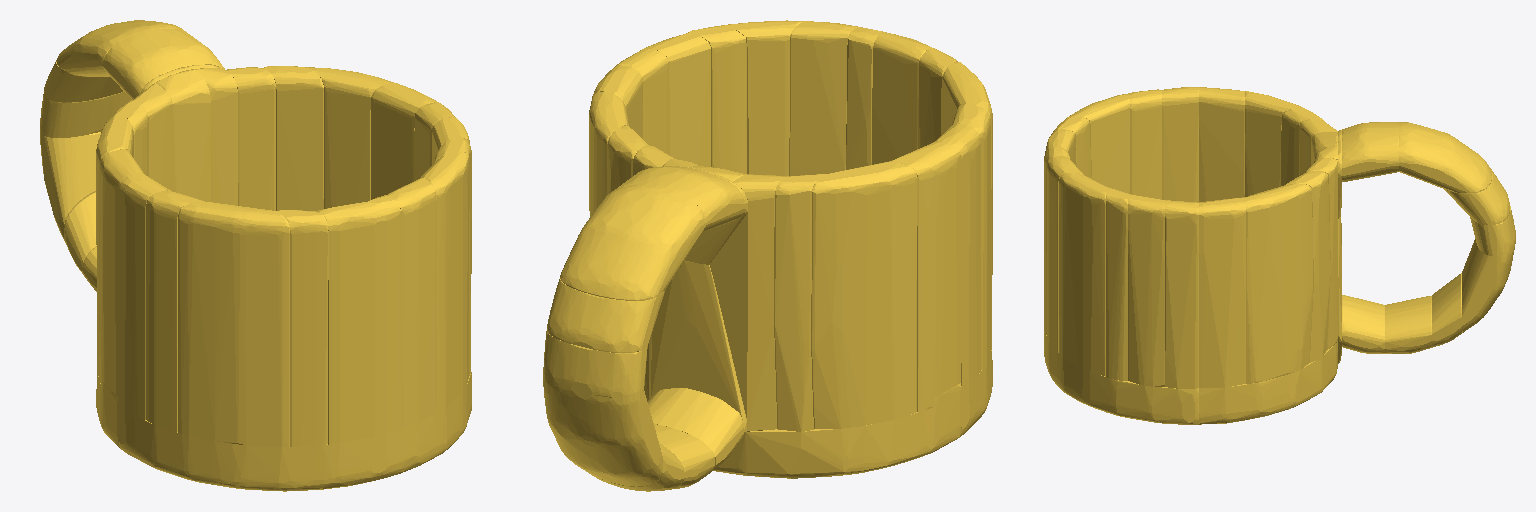
robot.urdf — 547.urdf:
<?xml version="1.0" ?>
<robot name="547.urdf">
	<link name="baseLink">
		<inertial>
			<origin rpy="0 0 0" xyz="0 0 0"/>
				<mass value="0.1"/>
				<inertia ixx="6e-5" ixy="0" ixz="0" iyy="6e-5" iyz="0" izz="6e-5"/>
		</inertial>
		<visual>
			<origin rpy="0 0 0" xyz="0 0 0"/>
			<geometry>
				<mesh filename="32_decom_wt.obj" scale="0.86 0.86 0.81"/>
			</geometry>
			<material name="yellow">
				<color rgba="0.98 0.84 0.35 1"/>
			</material>
		</visual>
		<collision>
			<origin rpy="0 0 0" xyz="0 0 0"/>
			<geometry>
				<mesh filename="32_decom_wt.obj" scale="0.86 0.86 0.81"/>
			</geometry>
		</collision>
	</link>
</robot>

--- What the picture shows (computed from the rendered views, not written in the file) ---
3 views of the same robot in one strip: view 1: azimuth 30°, elevation 25°; view 2: azimuth 150°, elevation 25°; view 3: azimuth 270°, elevation 25° (orthographic).
Robot: 547.urdf — 1 links, 0 joints (none); root link baseLink; default pose: every joint at zero.
Links seen in each view (by area): view 1: baseLink; view 2: baseLink; view 3: baseLink.
Boxes of the visible links, bbox=[...] form: baseLink: bbox=[40, 20, 471, 491]; baseLink: bbox=[543, 20, 992, 491]; baseLink: bbox=[1044, 87, 1515, 424].
Bounding box of the posed robot: 0.0819 × 0.1293 × 0.0705 m (x, y, z).
Meshes: 1 distinct files referenced, 1 mesh visuals loaded (1 OBJ).